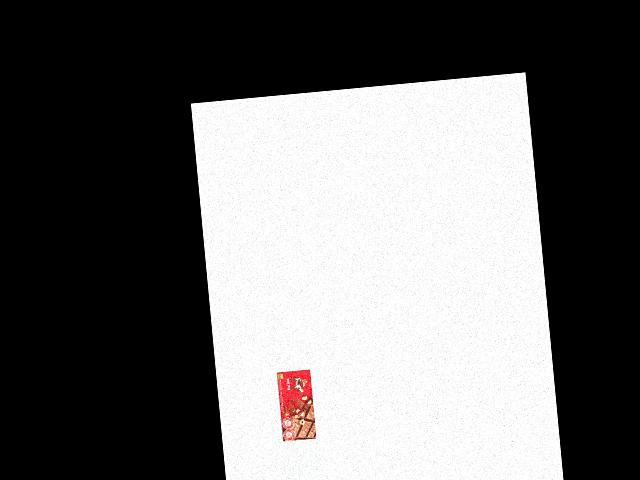chocolate: (275, 369, 316, 441)
